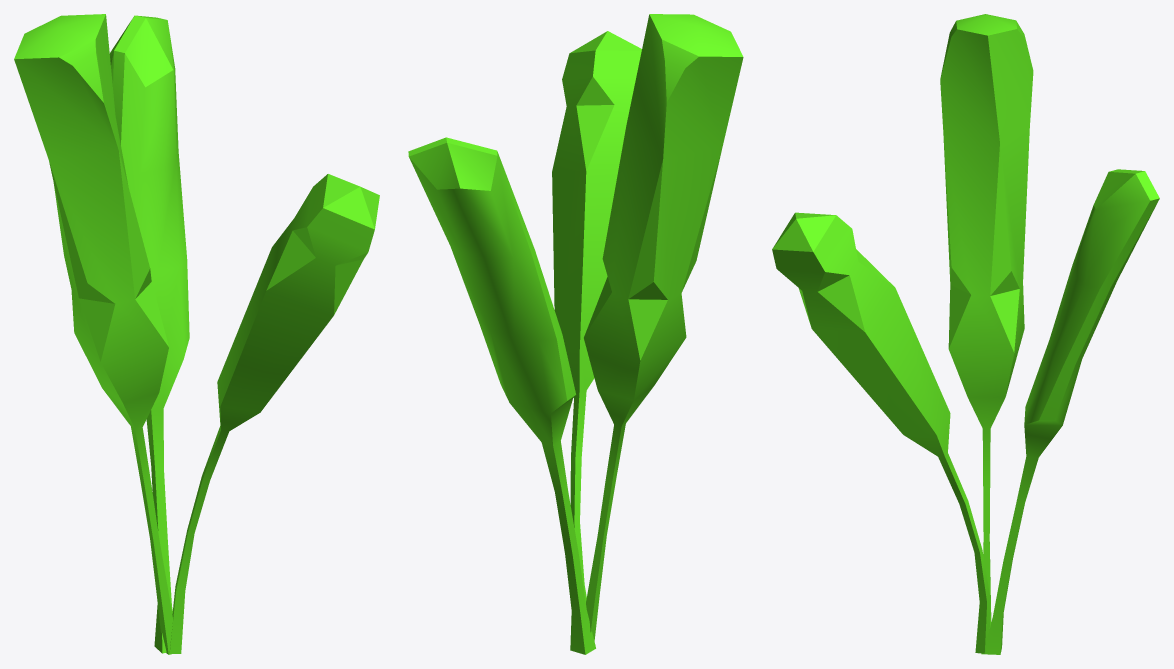
Rendered from SM_Flower_3.FBX.
The picture shows the model from 3 angles, left to right: view 1: azimuth 30°, elevation 25°; view 2: azimuth 150°, elevation 25°; view 3: azimuth 270°, elevation 25°; orthographic projection. The views are drawn at different scales.
Parts seen in each view (by area): view 1: 3; view 2: 3; view 3: 3.
Boxes of the visible parts, left/top/right/bottom form: 3: left=14, top=14, right=379, bottom=654; 3: left=408, top=14, right=743, bottom=654; 3: left=772, top=14, right=1159, bottom=654.
Size of the model in its own units: 3.3 by 7.6 by 4.54.
